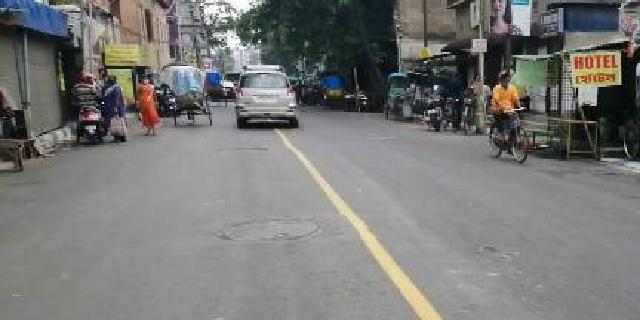Car: (233, 63, 303, 130)
Cycle: (476, 72, 540, 168)
Motorbike: (66, 70, 110, 147), (418, 86, 446, 134)
Rickshaw: (164, 66, 219, 127)
